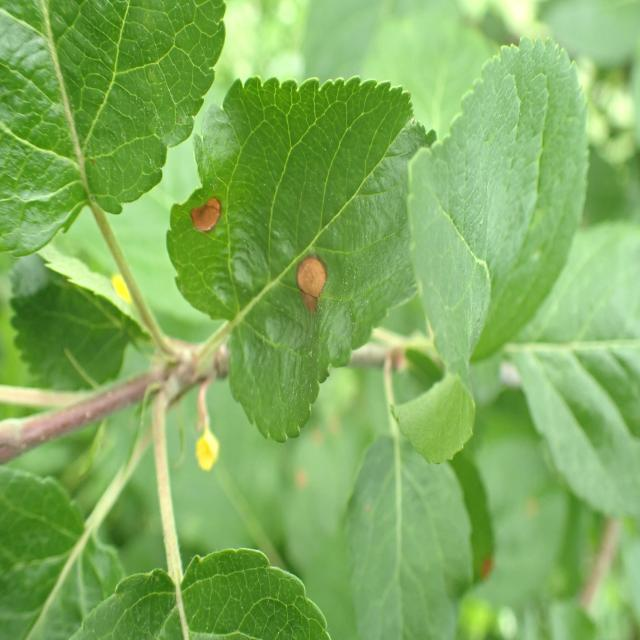Black Rot: (174, 178, 228, 252), (270, 245, 332, 305)
